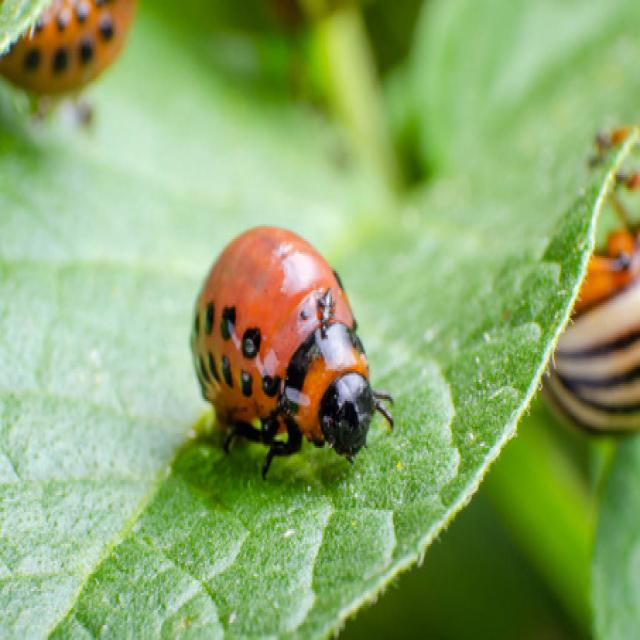ShuCaiHuaBanChong-Larva-: (171, 198, 404, 493)
